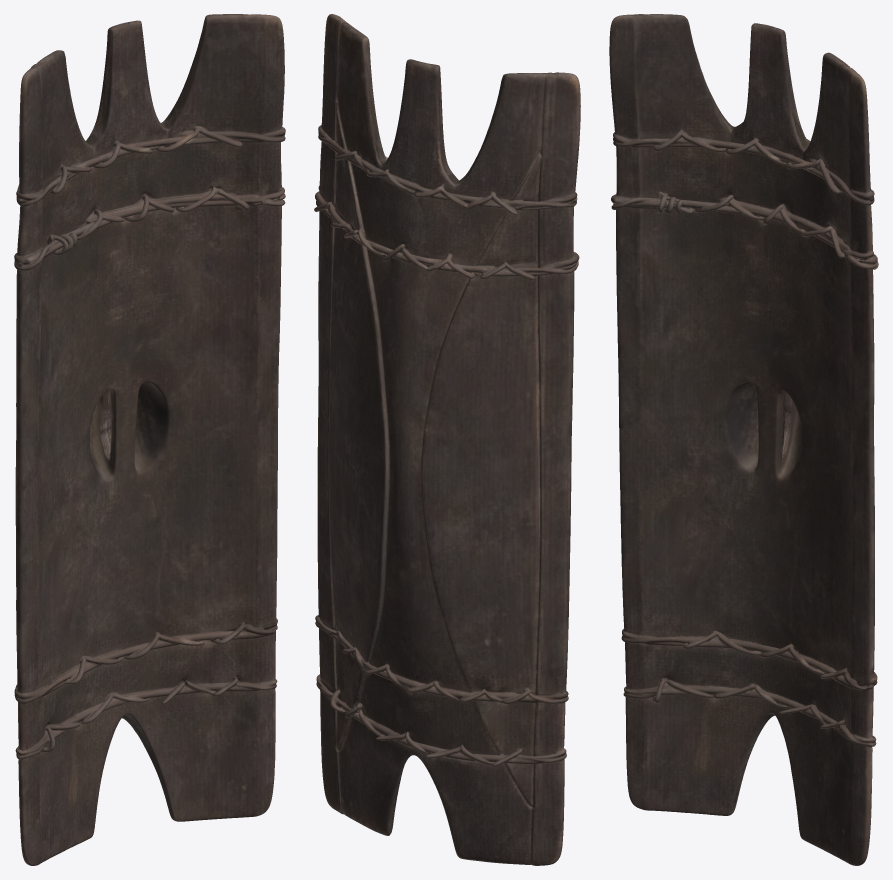
Rendered from mt.province.glb.
3 views of the same model, side by side, from view 1: azimuth 30°, elevation 25°; view 2: azimuth 150°, elevation 25°; view 3: azimuth 330°, elevation 25° (orthographic).
Visible parts, largest first — view 1: Mesh_0; view 2: Mesh_0; view 3: Mesh_0.
Boxes of the visible parts, x1,y1,x2,y2 form: Mesh_0: [14, 14, 285, 865]; Mesh_0: [314, 14, 580, 865]; Mesh_0: [609, 14, 878, 865].
Bounding box in the file's own units: 0.6611 × 1.9 × 0.2403.
Materials: 1 (1 with a texture image).
